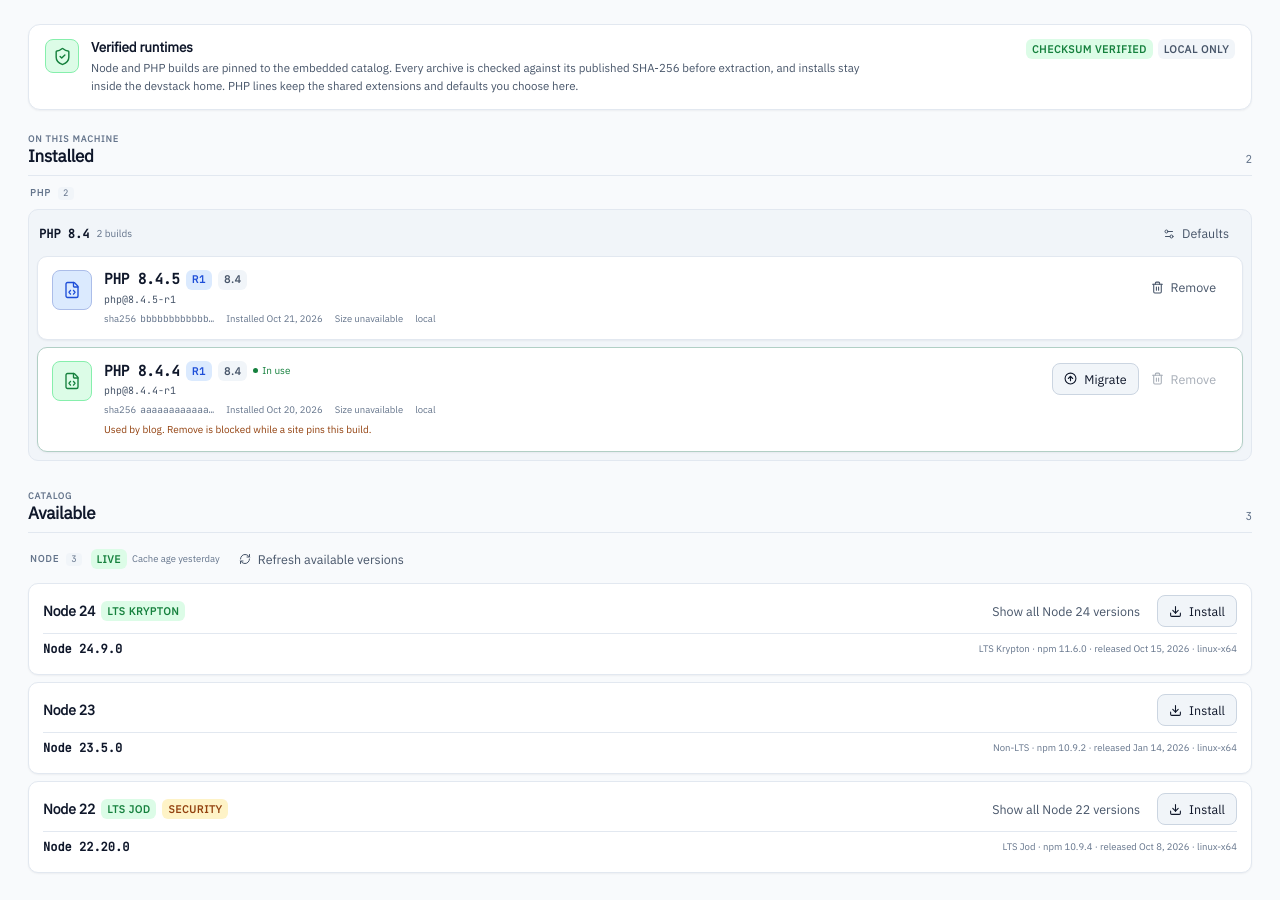
Test: Runtimes PHP removal › opens the per-line defaults drawer and saves after confirmation
The width and height of the screenshot is (1280, 900).
Click the button "Defaults": (1196, 234) left=1151, top=218, right=1241, bottom=250
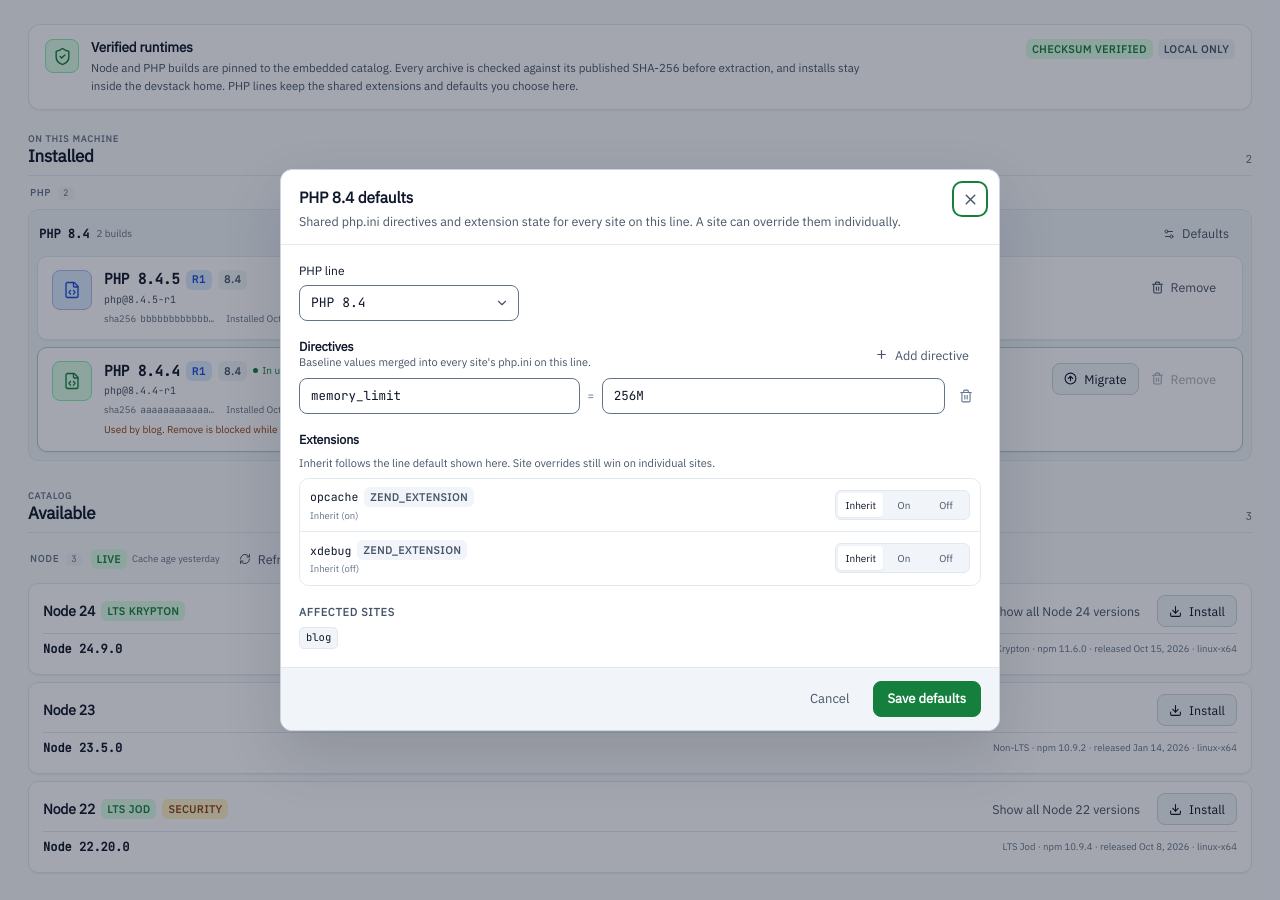
Expected: the field named "Default directive 1 value" holds "256M"
Replace the text in the field named "Default directive 1 value" with "512M": (773, 396) left=602, top=378, right=945, bottom=414
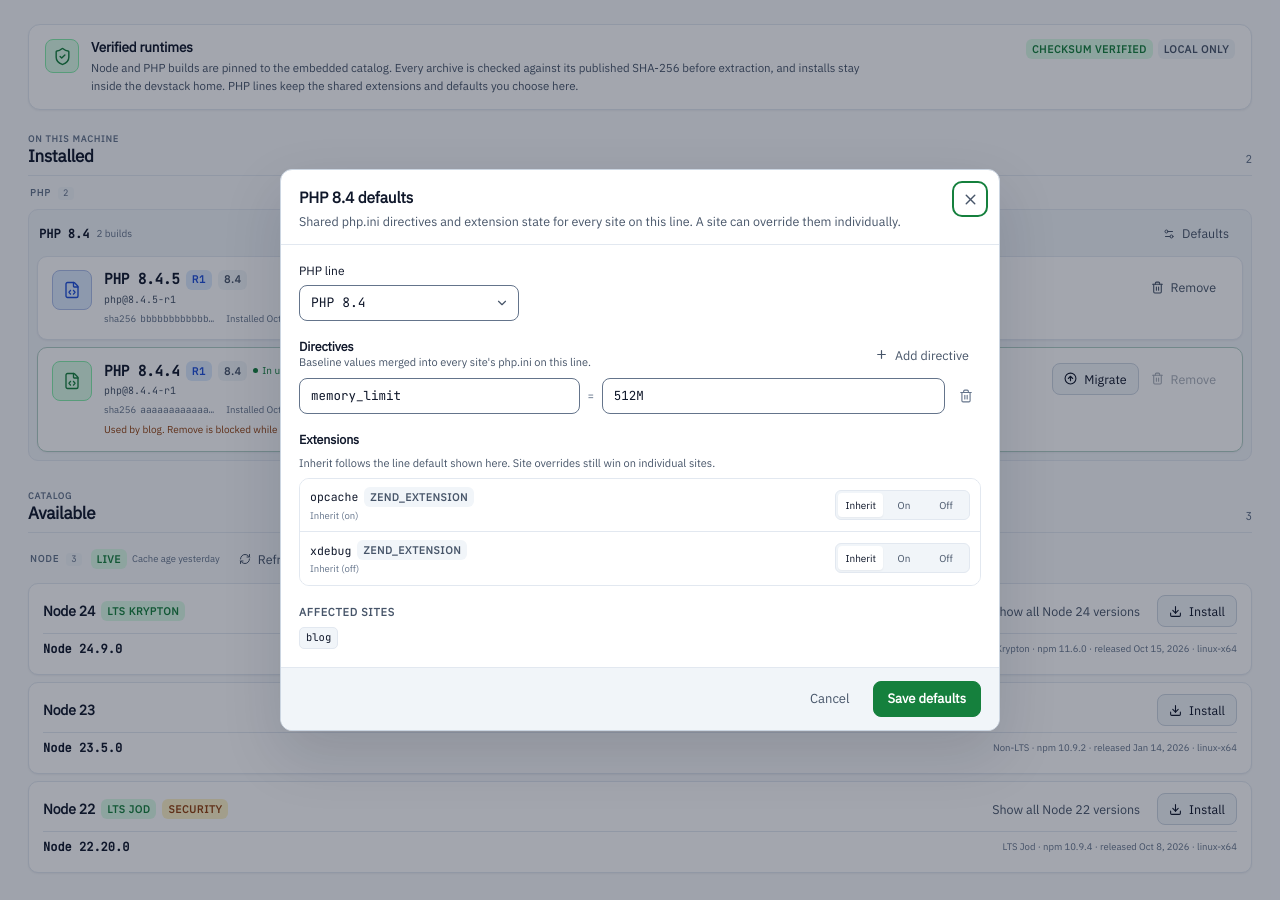
Click the button with aria-label "Enable xdebug": (904, 558) left=883, top=546, right=925, bottom=570
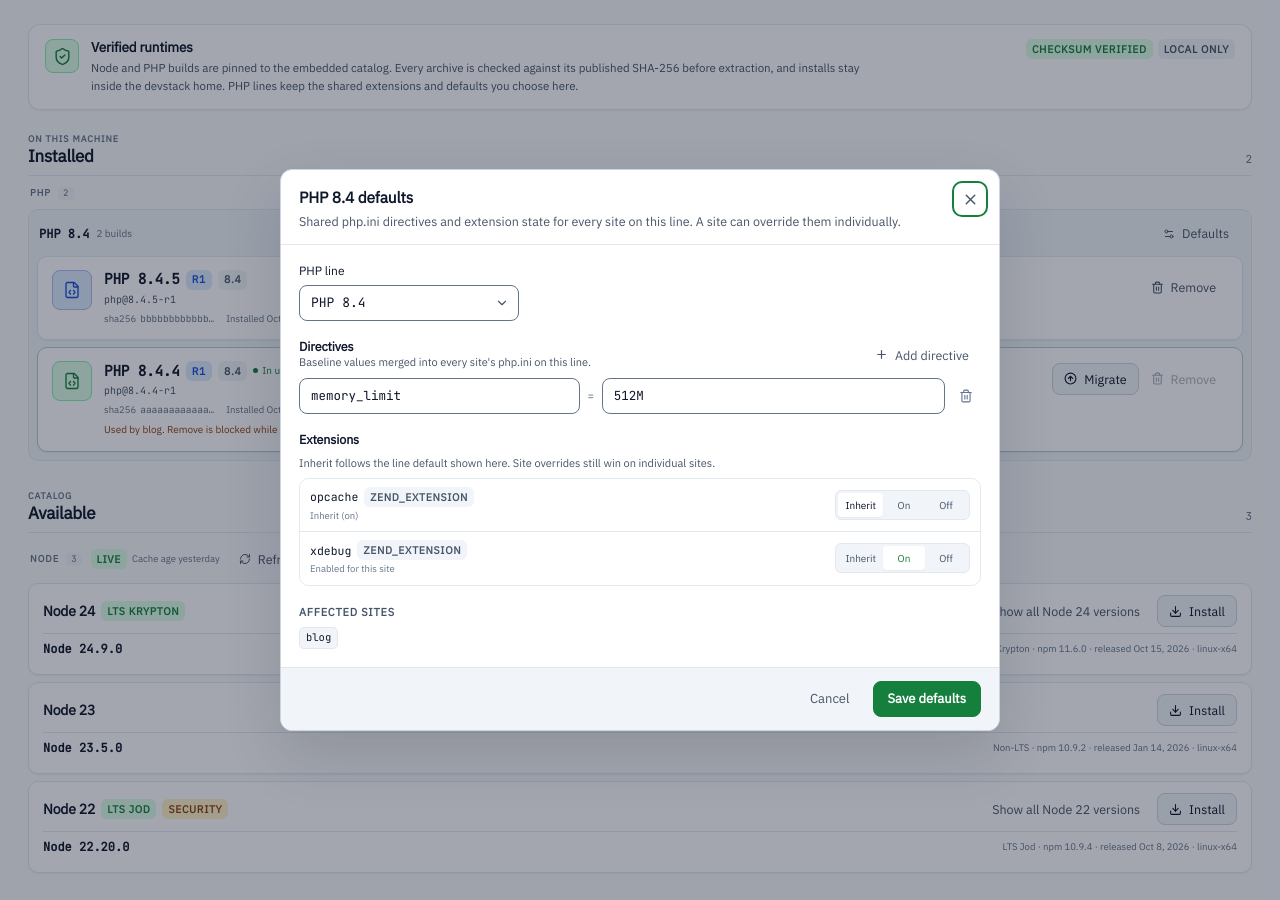
Click the button "Save defaults": (927, 699) left=872, top=681, right=981, bottom=717
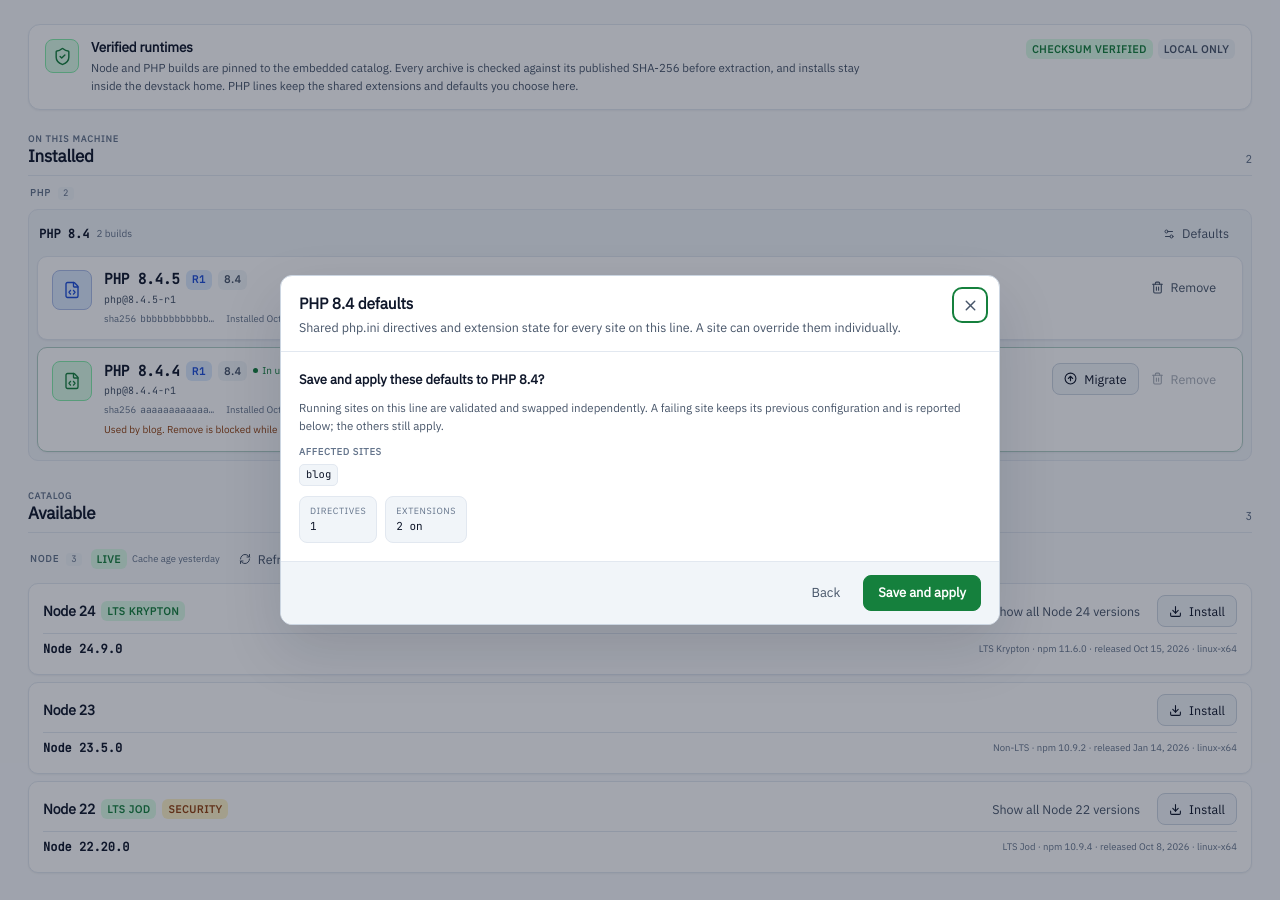
Expected: the text "Save and apply these defaults to PHP 8.4?" is shown, left=299, top=370, right=544, bottom=388
Click the button "Save and apply": (922, 593) left=863, top=575, right=981, bottom=611
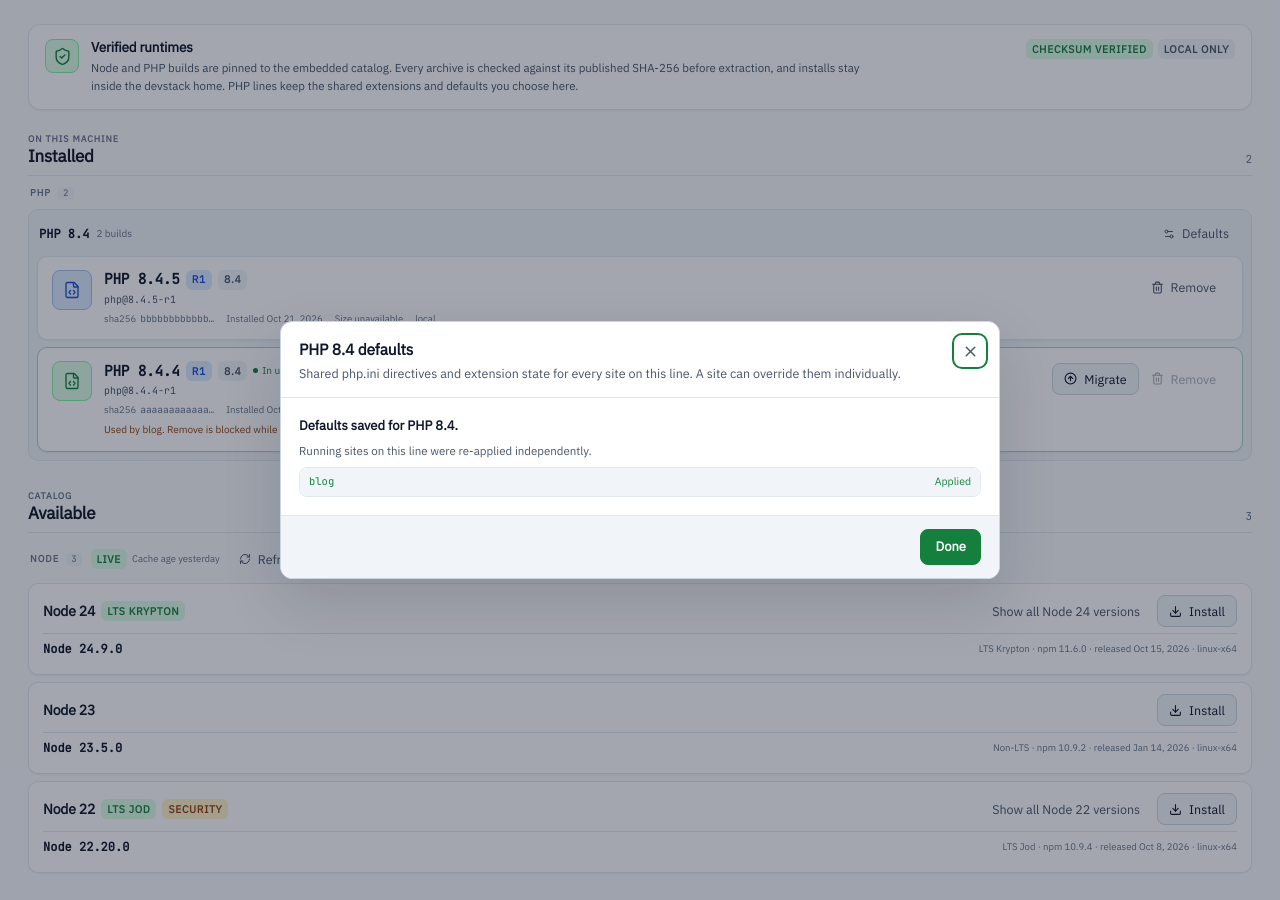
Expected: the text "Defaults saved for PHP 8.4." is shown, left=299, top=416, right=458, bottom=434
Expected: the text "Applied" is shown, left=935, top=474, right=971, bottom=490
